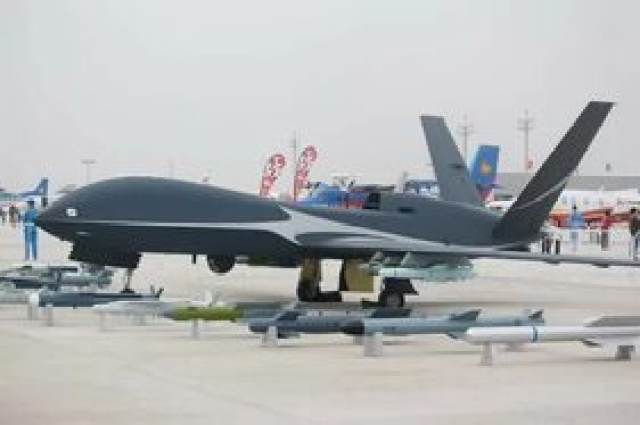military drone: (32, 101, 640, 308)
